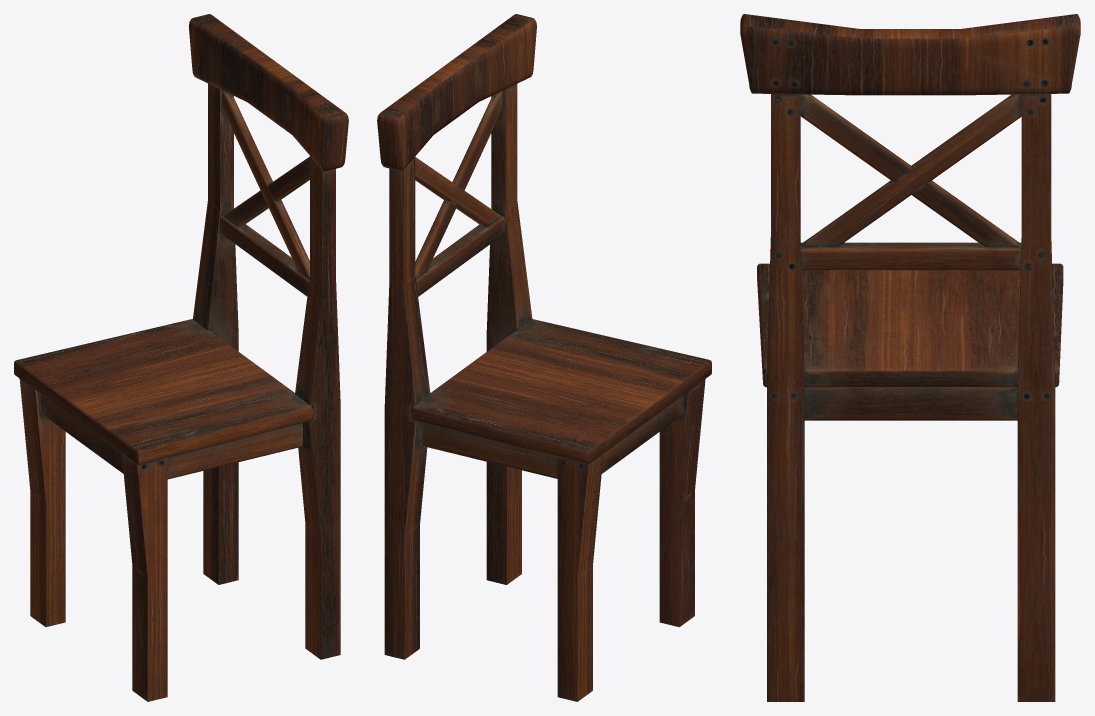
The model's file is stol.dae.
The picture shows the model from 3 angles, left to right: view 1: azimuth 30°, elevation 25°; view 2: azimuth 150°, elevation 25°; view 3: azimuth 270°, elevation 25°; orthographic projection. The views are drawn at different scales.
Visible parts, largest first — view 1: Object_2_col; view 2: Object_2_col; view 3: Object_2_col.
Boxes of the visible parts, left/top/right/bottom form: Object_2_col: left=14, top=14, right=348, bottom=701; Object_2_col: left=377, top=14, right=711, bottom=701; Object_2_col: left=740, top=14, right=1080, bottom=701.
Bounding box in the file's own units: 0.4194 × 0.4729 × 1.03.
Materials: 1 (1 with a texture image).
